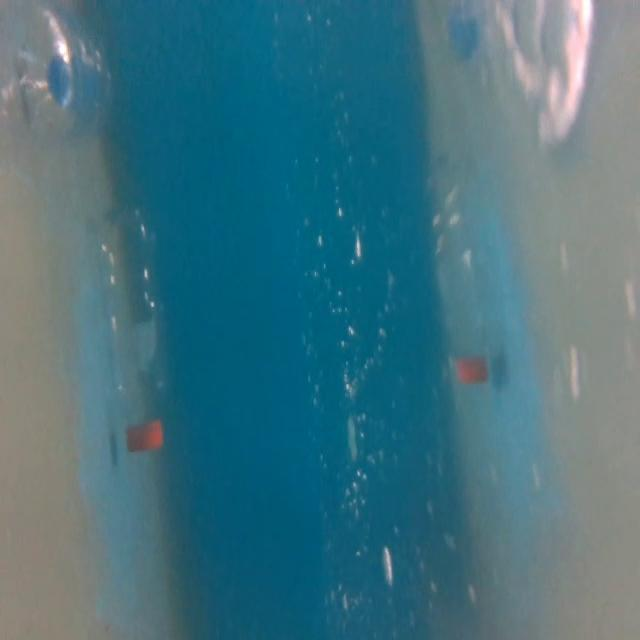plastic bottle: (85, 190, 185, 452)
